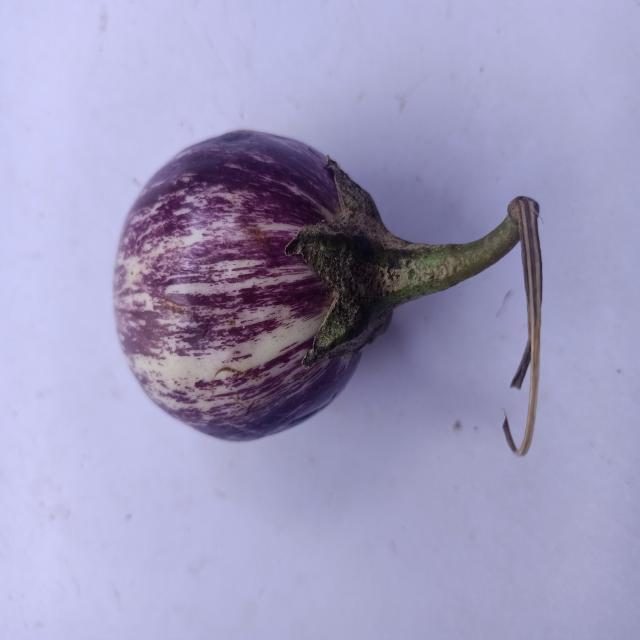Eggplant: (94, 99, 578, 482)
